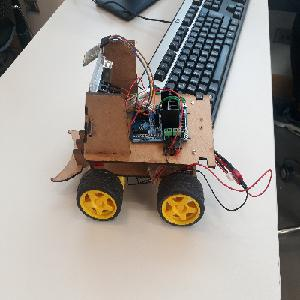Robot: (52, 37, 217, 226)
